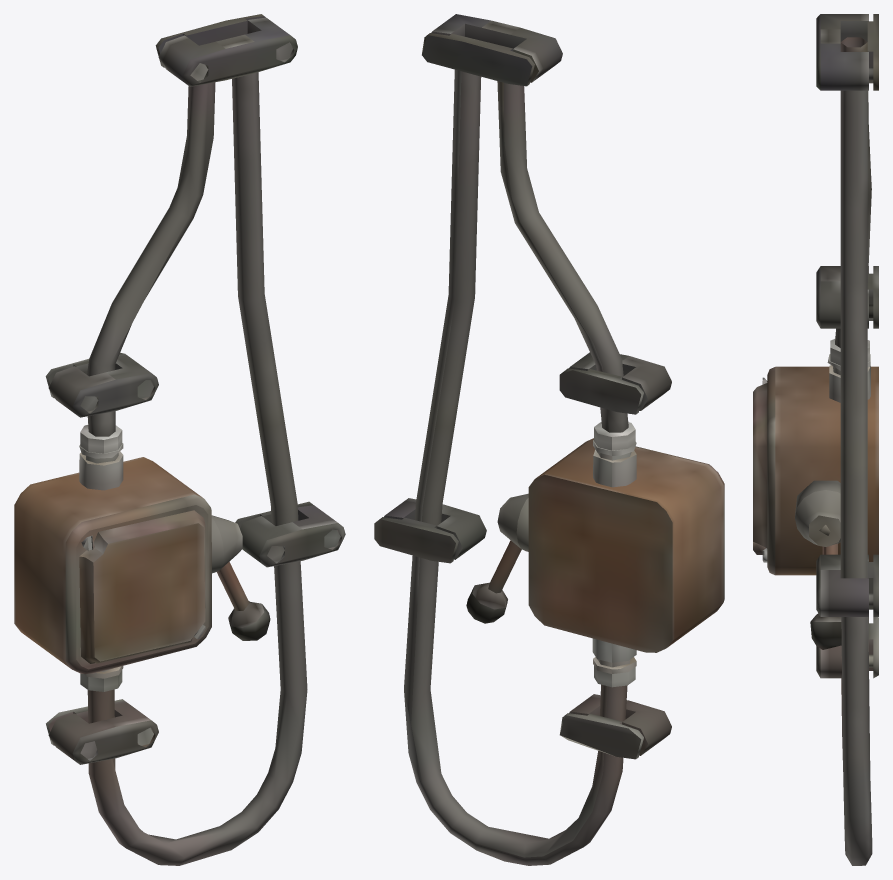
The model's file is wall-switch--1.gltf.
The picture shows the model from 3 angles, left to right: view 1: azimuth 30°, elevation 25°; view 2: azimuth 150°, elevation 25°; view 3: azimuth 270°, elevation 25°; orthographic projection.
Visible parts, largest first — view 1: cable_switch; view 2: cable_switch; view 3: cable_switch.
Boxes of the visible parts, x1,y1,x2,y2 form: cable_switch: (14,14,345,865); cable_switch: (374,14,724,865); cable_switch: (753,14,878,865).
Size of the model in its own units: 0.1458 by 0.3787 by 0.0522.
Materials: 1 (1 with a texture image).
